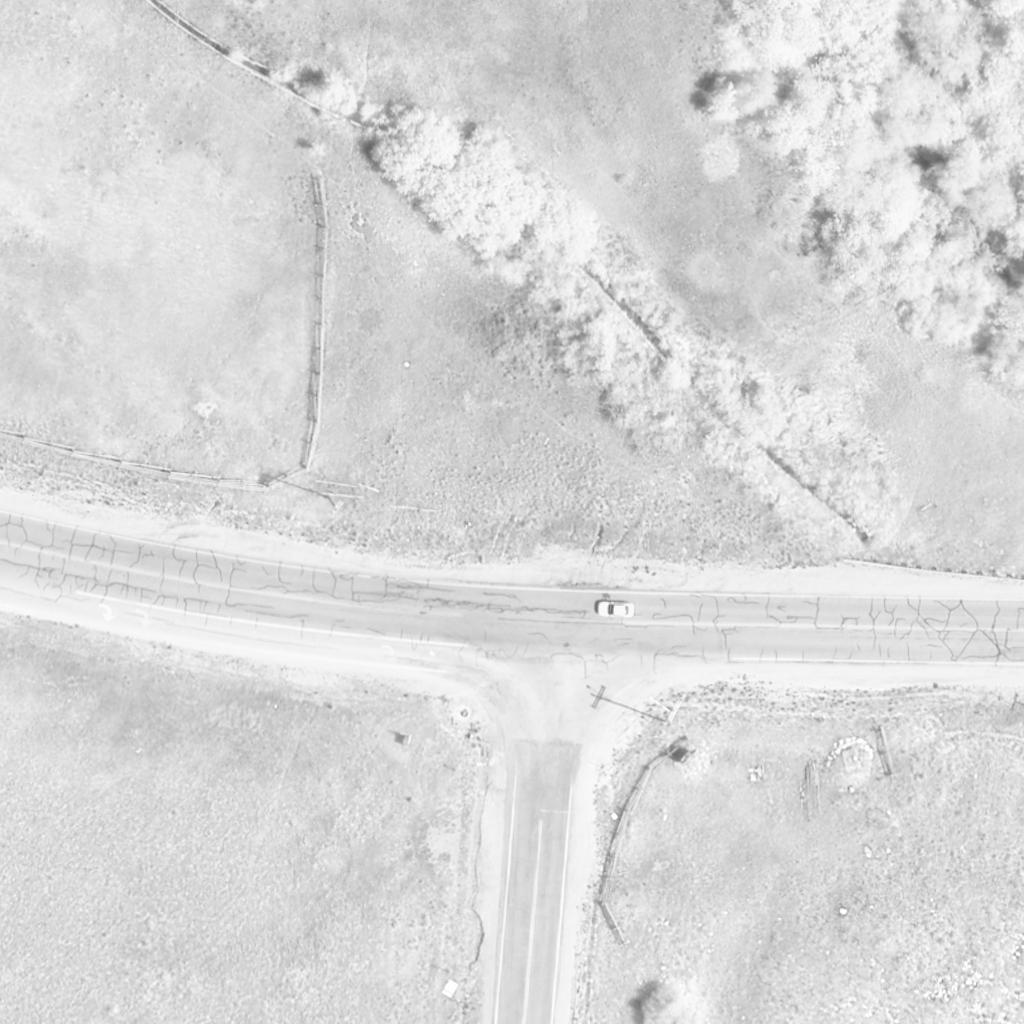vehicle: (596, 602, 636, 618)
